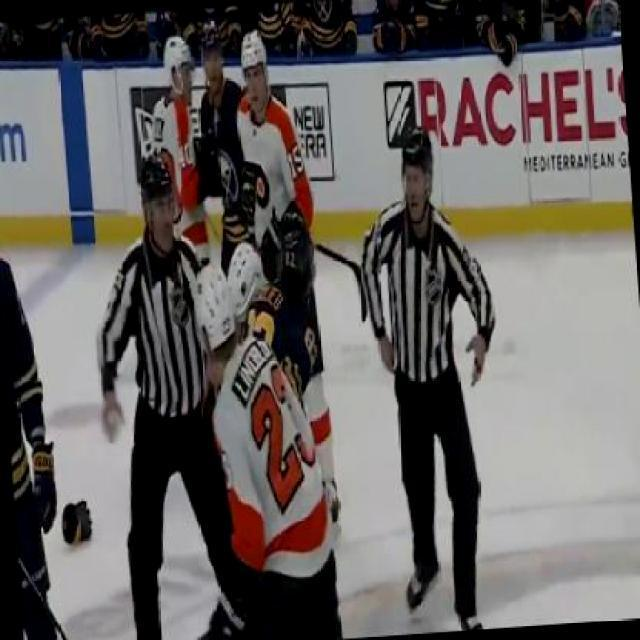fight: (81, 143, 342, 639)
